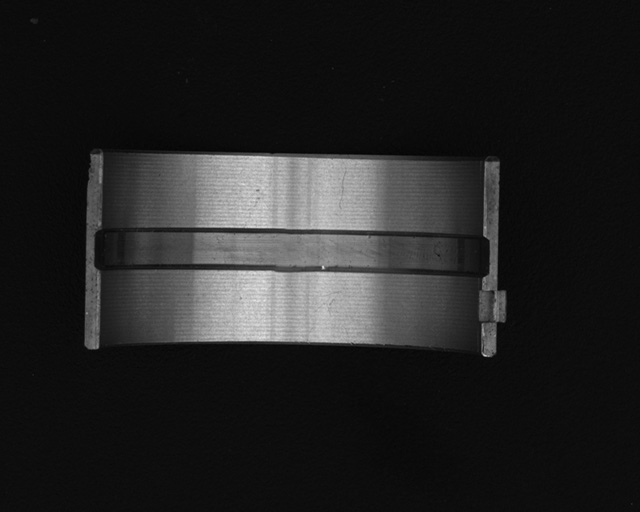gap: (92, 226, 488, 277)
nick: (337, 170, 347, 208)
